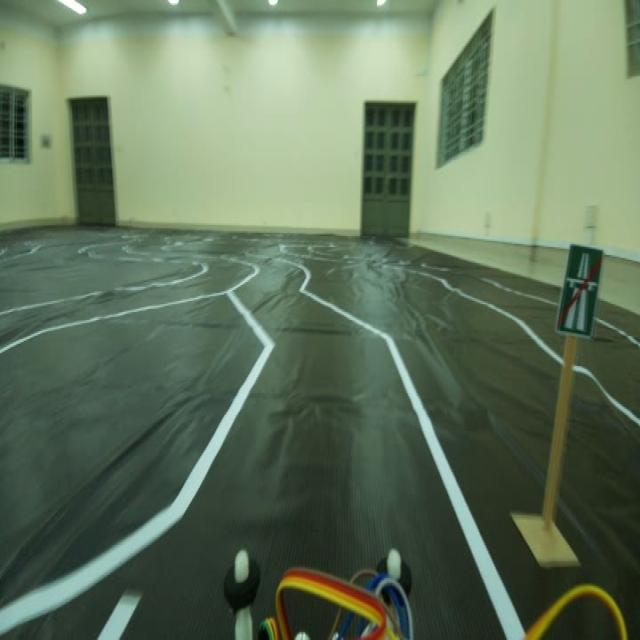highway_exit: (555, 228, 603, 352)
